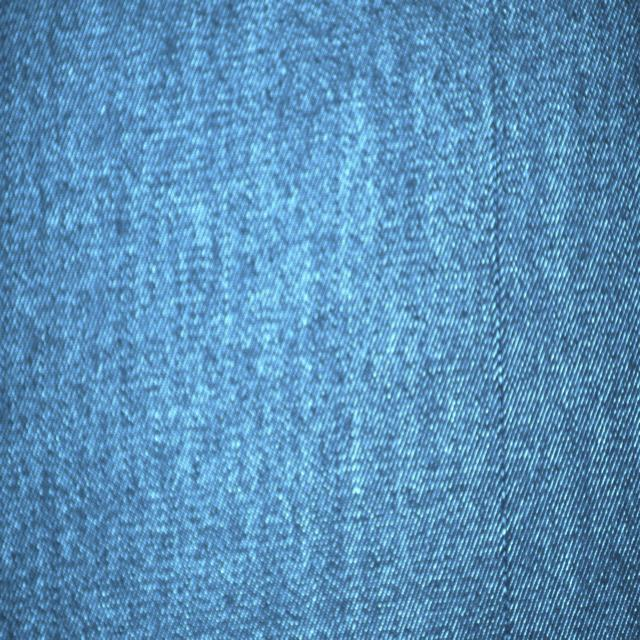Line: (486, 0, 515, 640)
